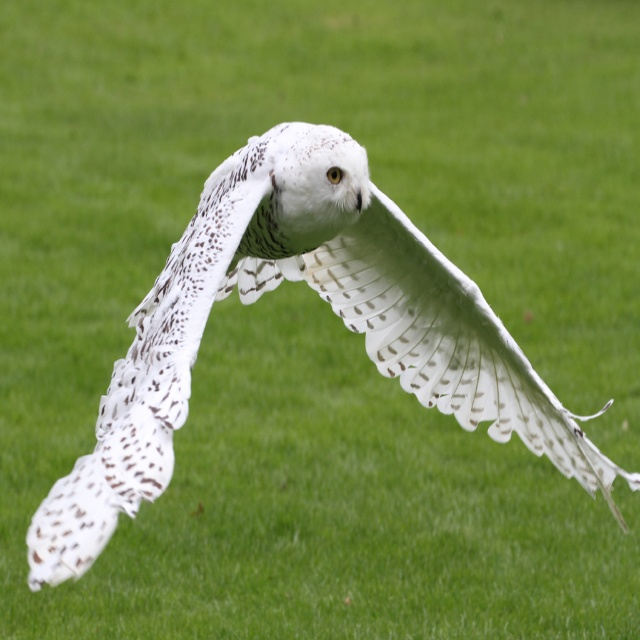Owl: (30, 112, 640, 586)
